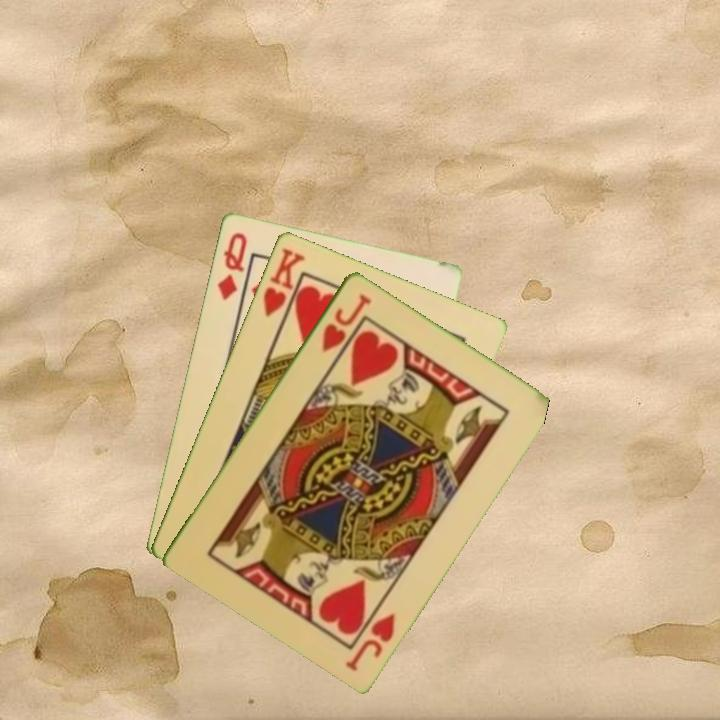Jh: (318, 289, 374, 355), (342, 609, 398, 674)
Kh: (259, 243, 308, 329)
Qd: (213, 228, 250, 303)
